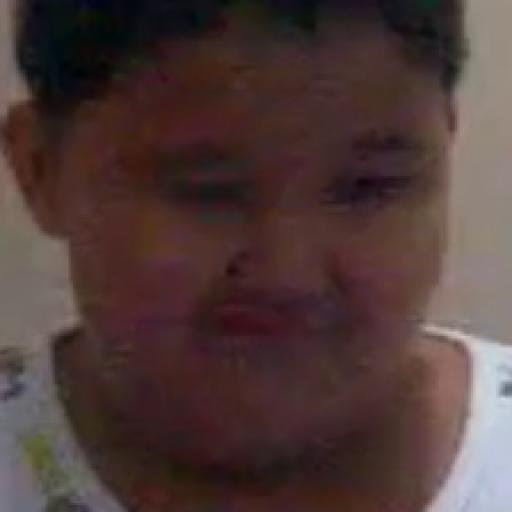Autism: (12, 4, 500, 486)
